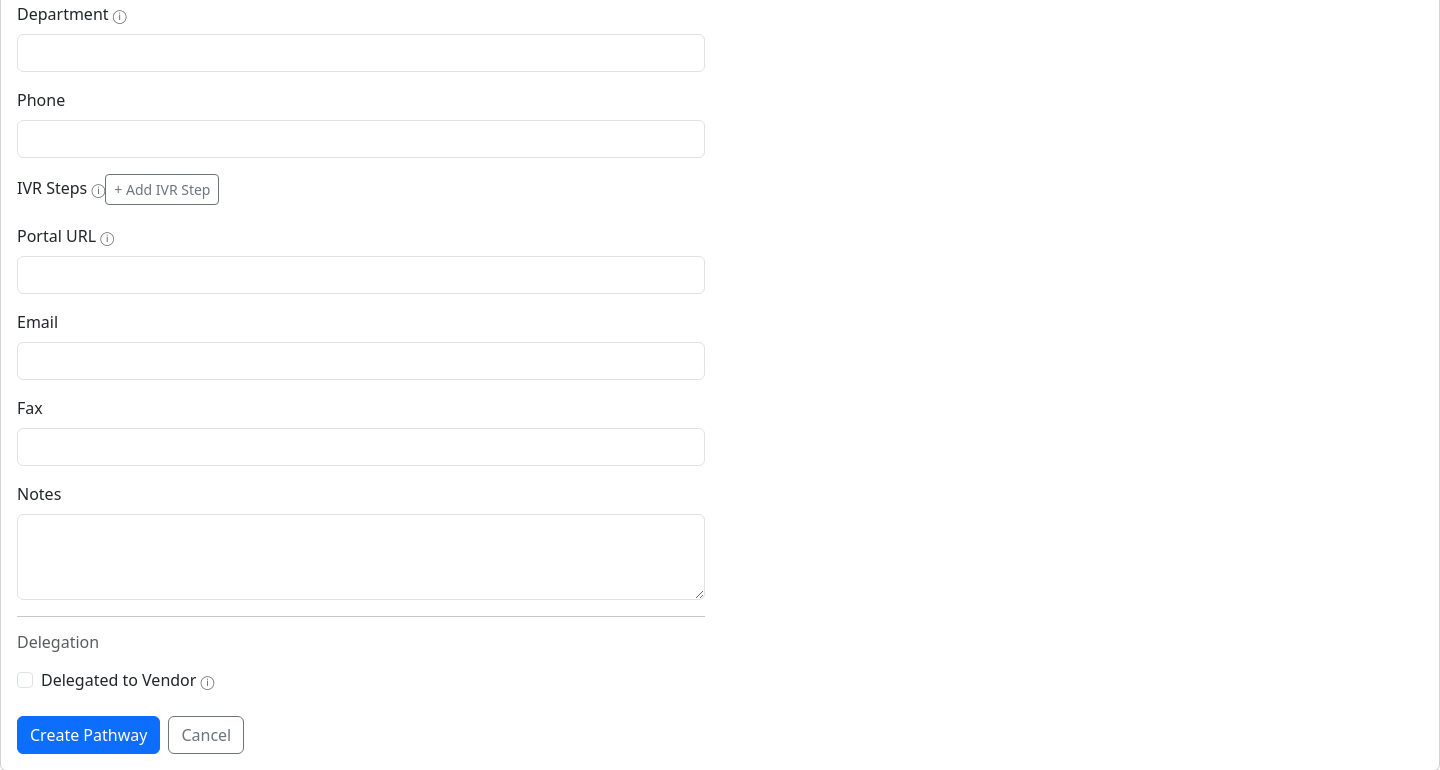
Test: PathwayFormPage › Create mode › shows validation error when audience not selected
The width and height of the screenshot is (1440, 770).
(page scrolled)
Step 1. Click the button "Create Pathway" → coordinates (89, 735), box [17,716,160,754]
(page scrolled)
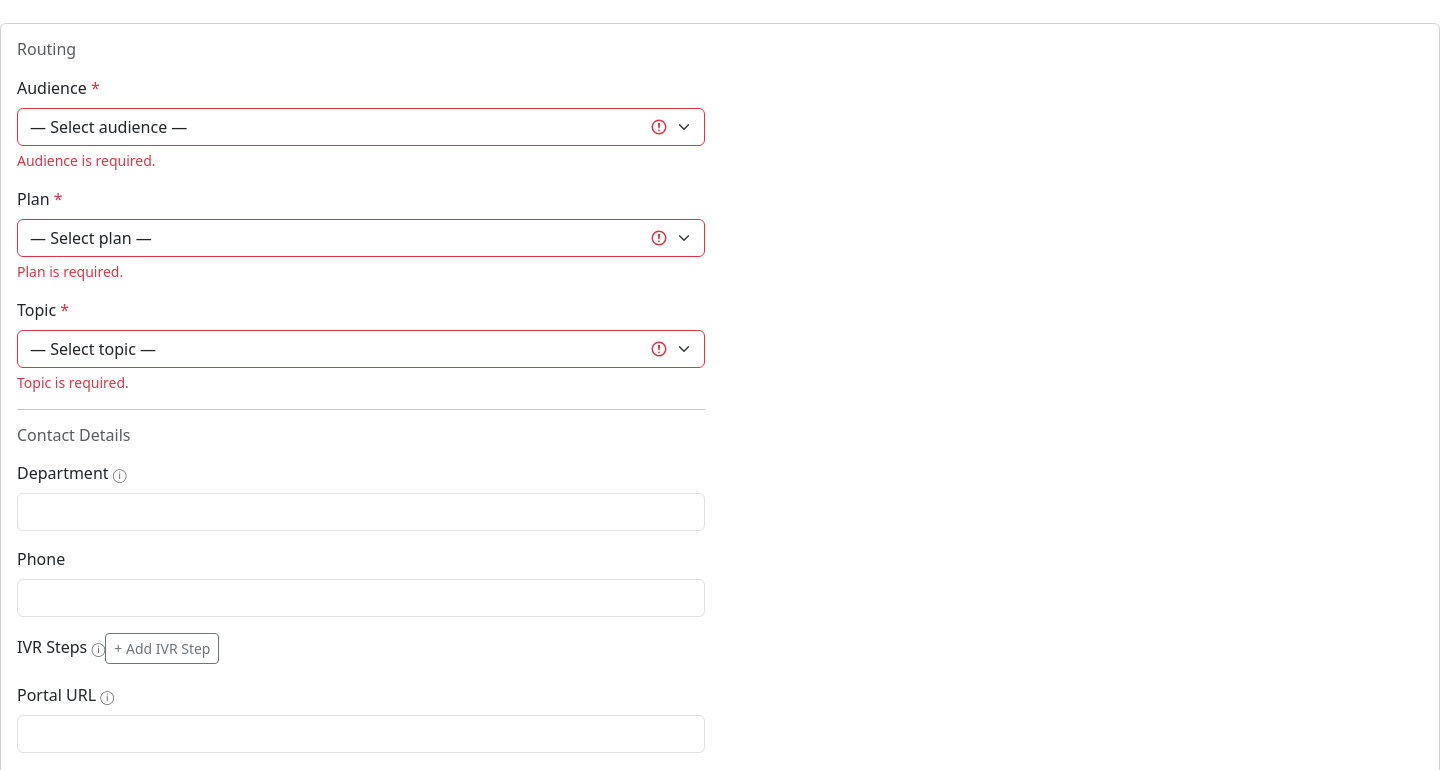
Check: the text "Audience is required." is shown, box [17,151,156,170]
